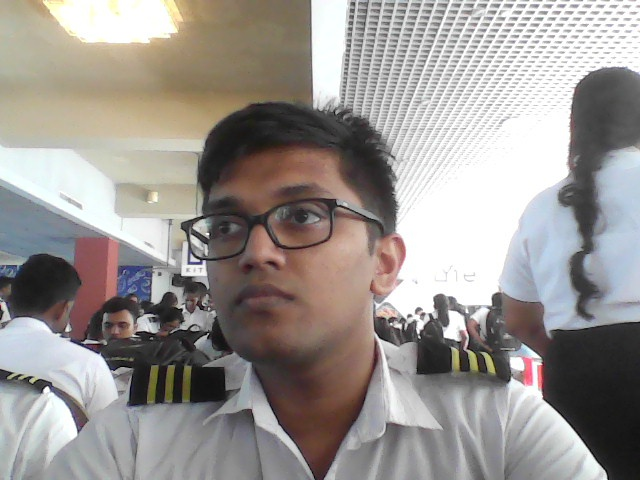upper level: (184, 99, 409, 374)
